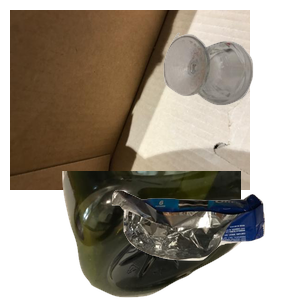cardboard: (10, 10, 250, 190)
glass: (161, 30, 300, 128)
plastic: (60, 171, 300, 300)
trash: (109, 187, 300, 300)
